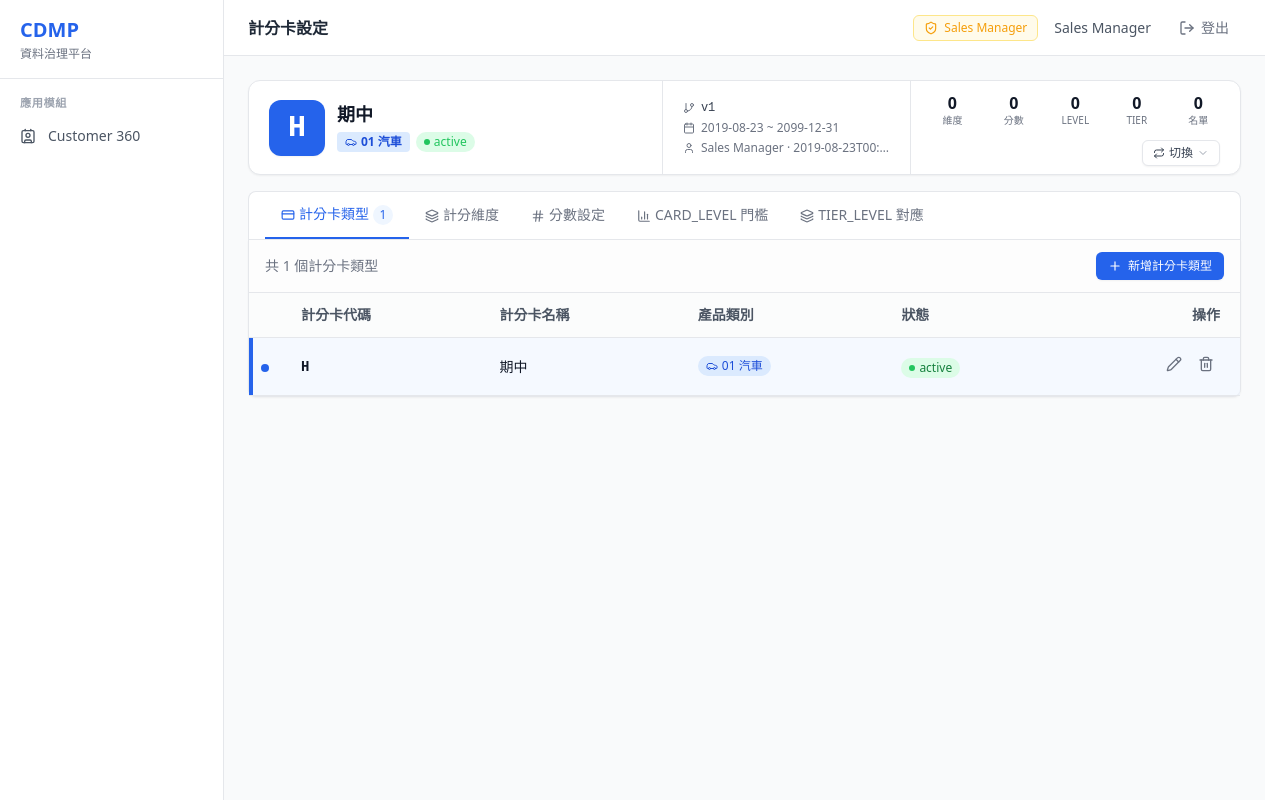
Test case: ScoringConfigPage — F053 顯示 › TS-F053-011：維度 Badge 顯示維度數量
Expected: the row with test id "card-type-row-H" is shown, [249,338,1240,396]
Click the button with test id "tab-dim": point(462, 216) [409,192,515,238]
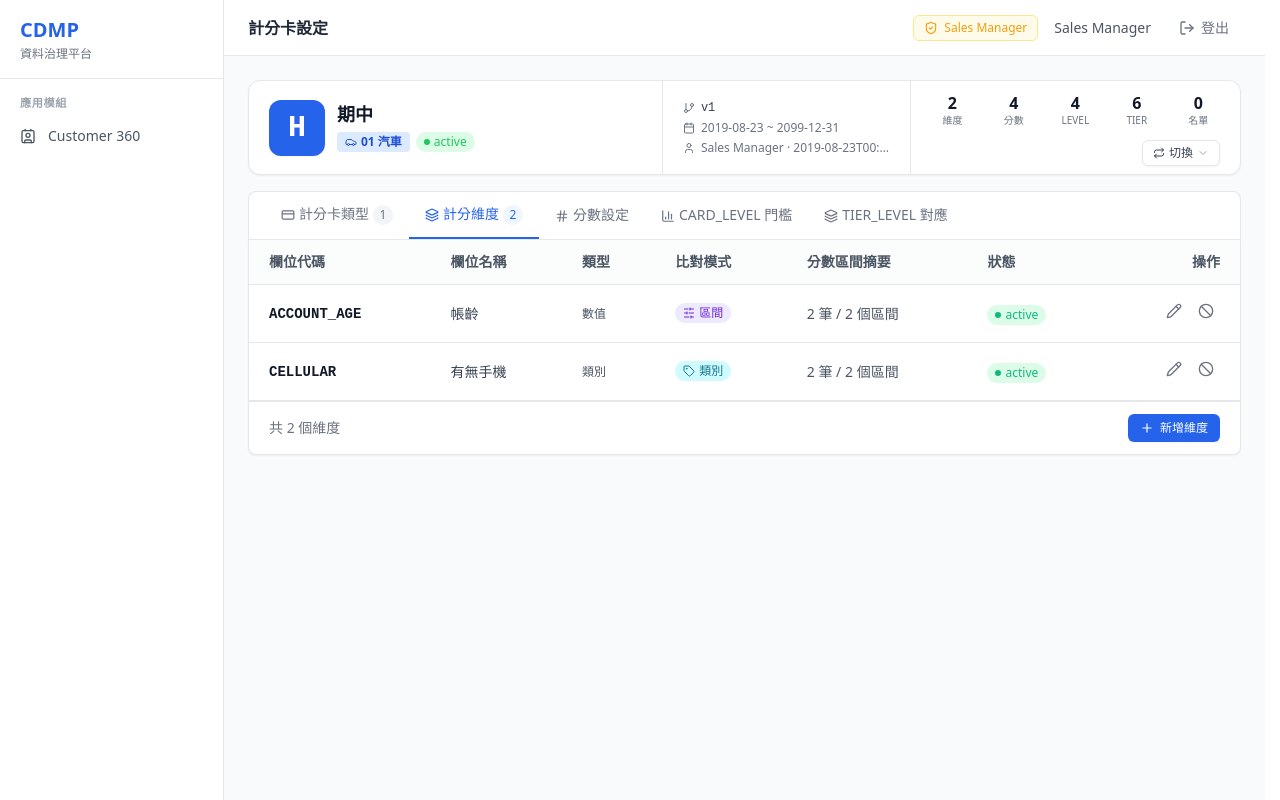
Result: the button with test id "btn-add-dim" is shown at [1128,414,1220,442]
Result: the button with test id "tab-dim" shows "2" at [409,192,539,239]
